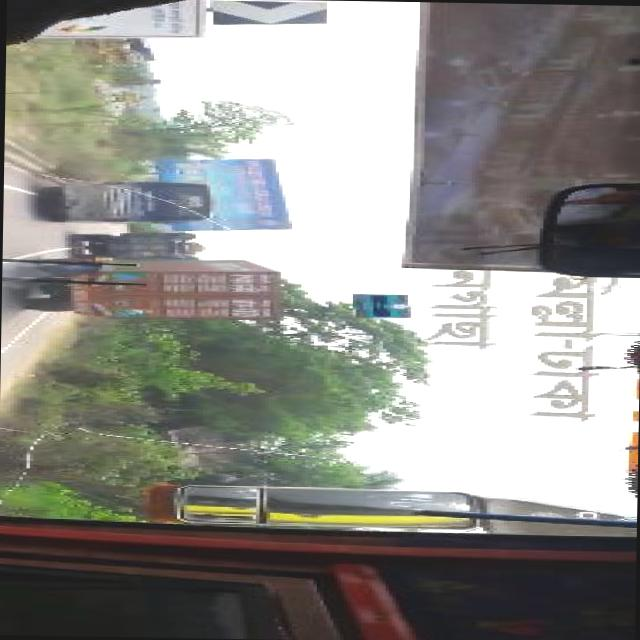bus: (49, 181, 212, 225)
truck: (31, 256, 283, 320), (77, 233, 205, 260), (84, 40, 150, 65), (118, 94, 148, 104)
